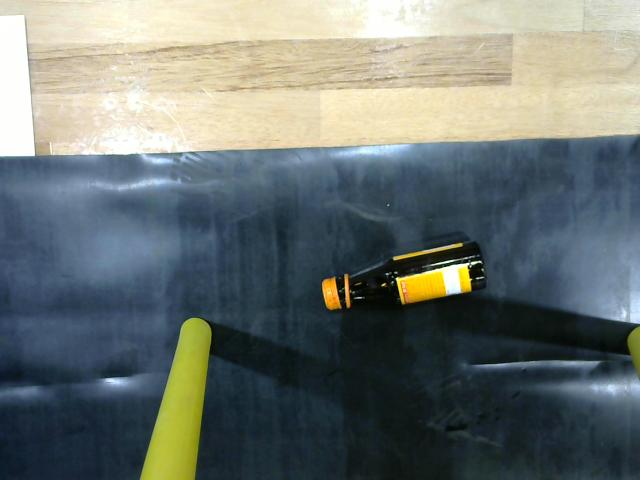glass: (314, 232, 497, 317)
